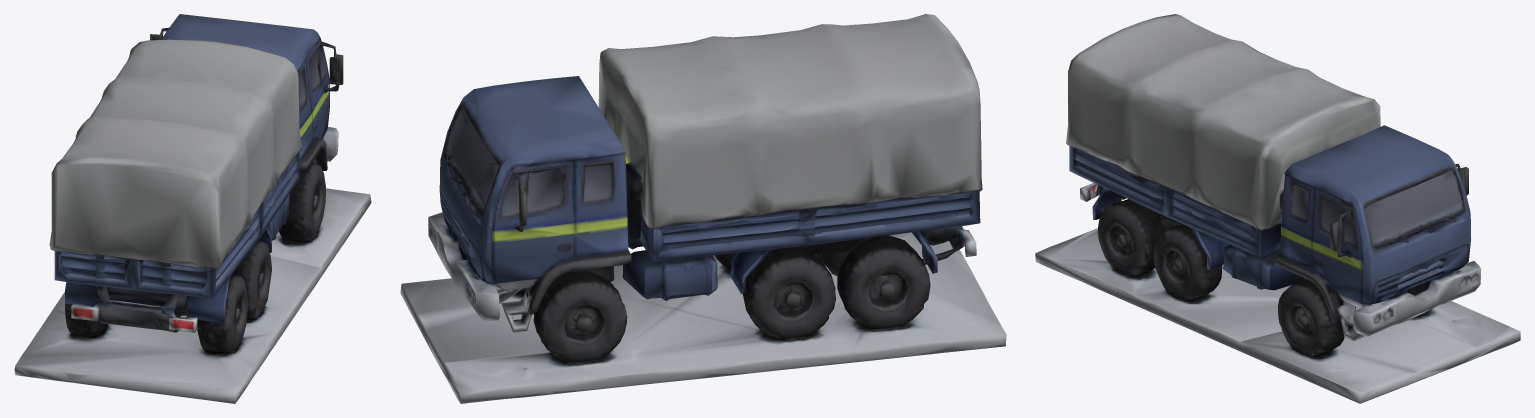
3 renders of one model, left to right at view 1: azimuth 30°, elevation 25°; view 2: azimuth 150°, elevation 25°; view 3: azimuth 270°, elevation 25°, orthographic. The views are drawn at different scales.
Parts seen in each view (by area): view 1: repaired; view 2: repaired; view 3: repaired.
Part boxes in pixels (x1=…): repaired: x1=14, y1=14, x2=371, y2=403; repaired: x1=400, y1=14, x2=1006, y2=403; repaired: x1=1035, y1=14, x2=1520, y2=403.
Size of the model in its own units: 1 by 0.4775 by 0.9997.
Materials: 1 (1 with a texture image).
